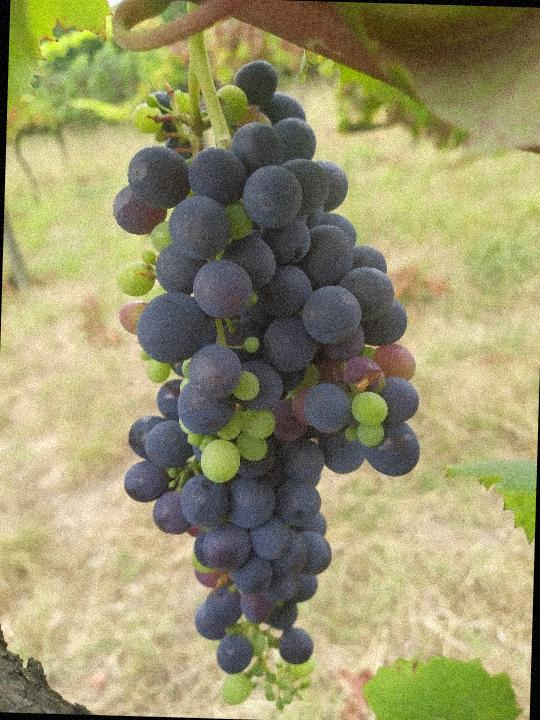grape: (96, 53, 433, 710)
